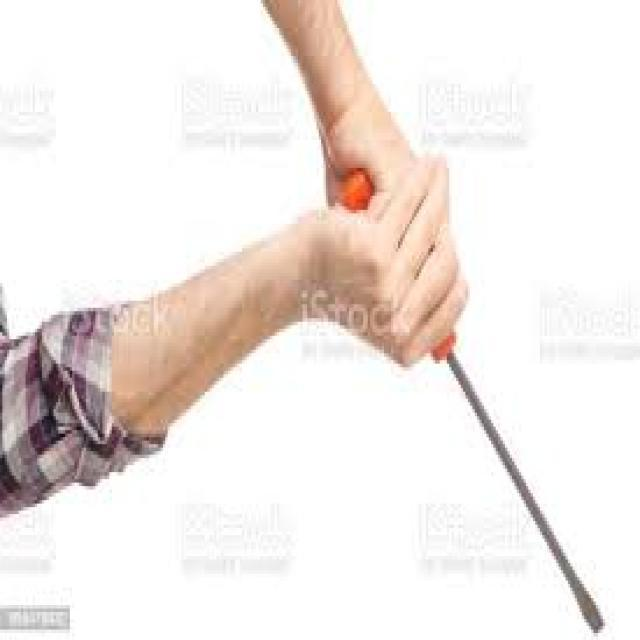screwdriver: (332, 157, 608, 640)
